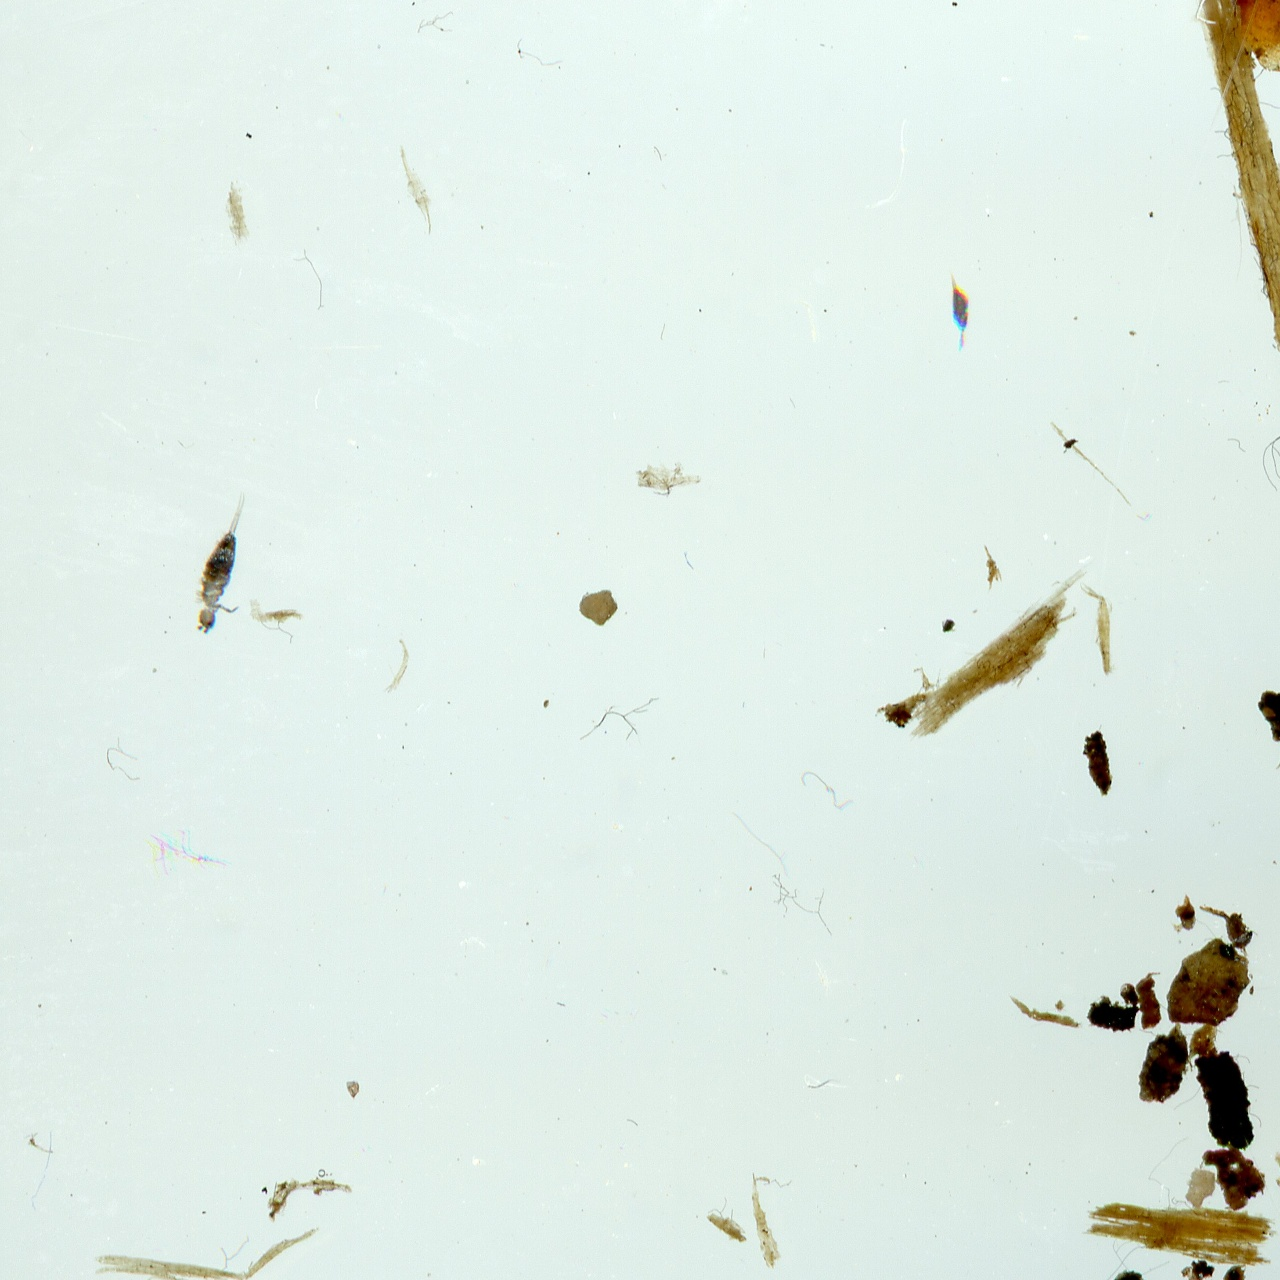arthropod: (179, 478, 273, 648), (945, 261, 972, 356)
